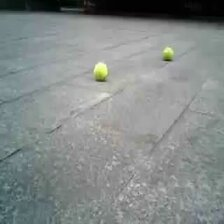tennis: (93, 63, 108, 79), (163, 47, 173, 59)
